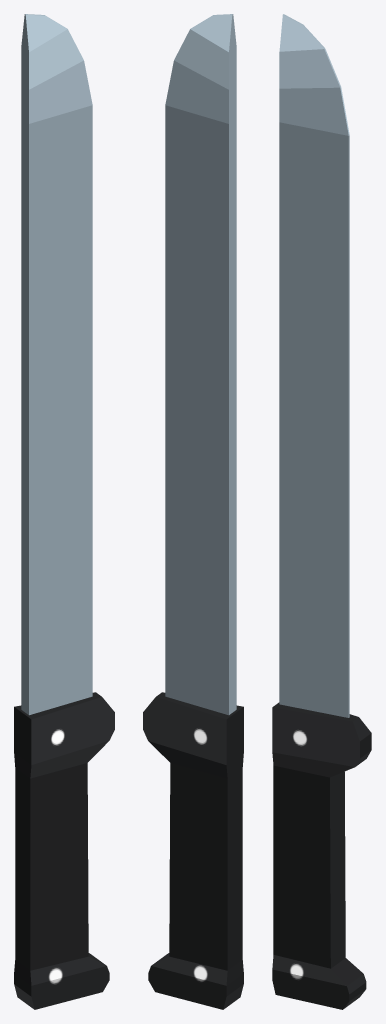
Rendered from Machete.obj.
The picture shows the model from 3 angles, left to right: view 1: azimuth 30°, elevation 25°; view 2: azimuth 150°, elevation 25°; view 3: azimuth 330°, elevation 25°; orthographic projection.
Parts seen in each view (by area): view 1: Cube.007; view 2: Cube.007; view 3: Cube.007.
Part boxes in pixels (box(x1,y1,x2,y2)): Cube.007: box(14, 14, 114, 1009); Cube.007: box(143, 14, 243, 1009); Cube.007: box(272, 14, 371, 1009).
Bounding box in the file's own units: 0.088 × 0.965 × 0.0307.
2 materials, 1 textured.
